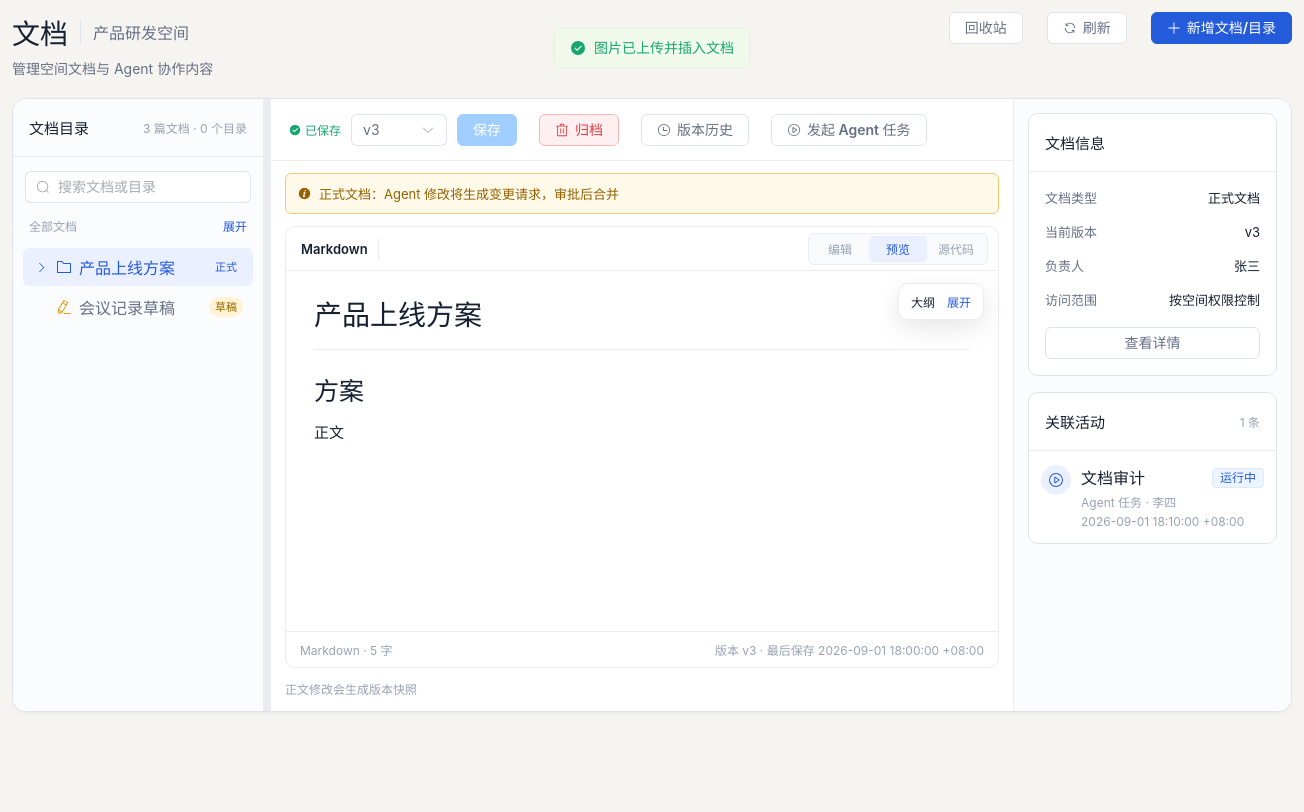
Test: DocumentEditorView › preserves an unsaved draft when switching documents
The image size is (1304, 812).
Click the tab with aria-label "源代码模式": (956, 248) [927,236,985,262]
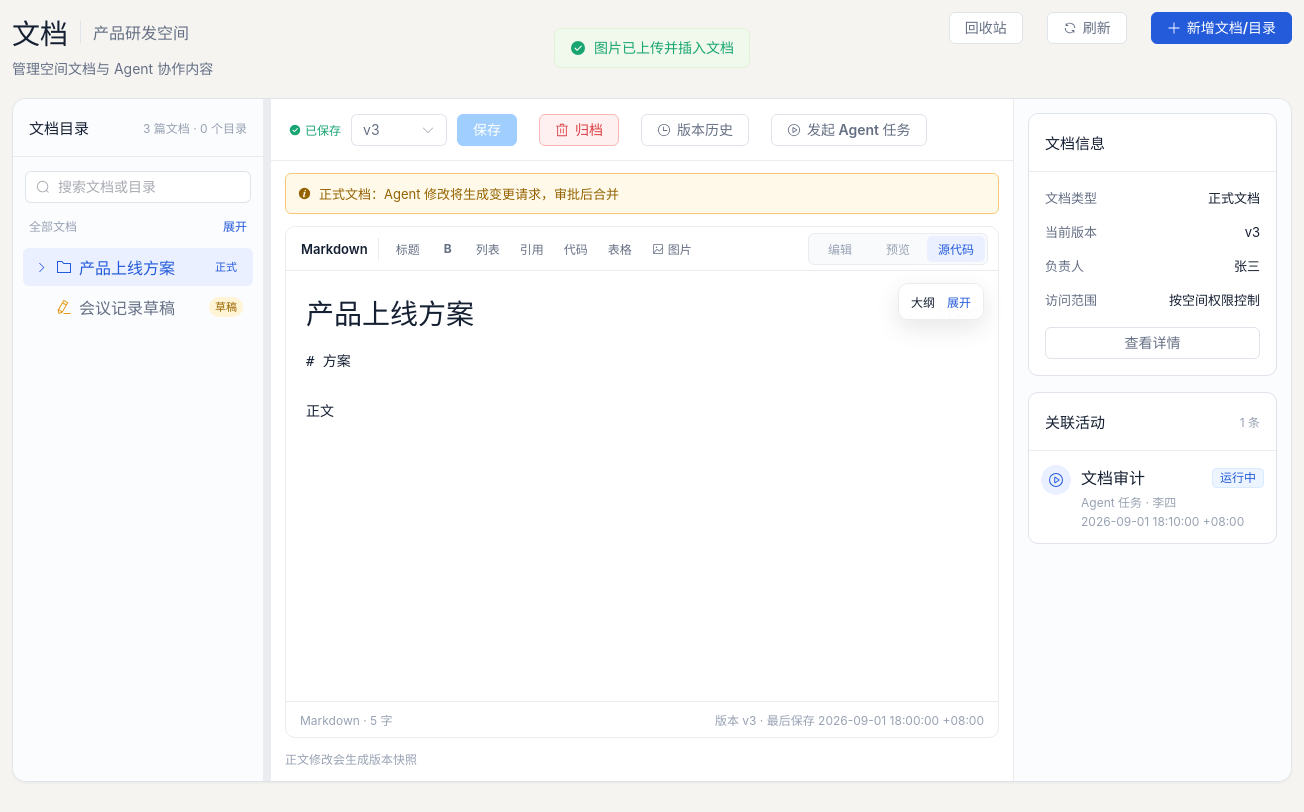
Replace the text in the text box named "Markdown 文档内容" with "# 临时编辑内容": (642, 521) [286,341,998,701]
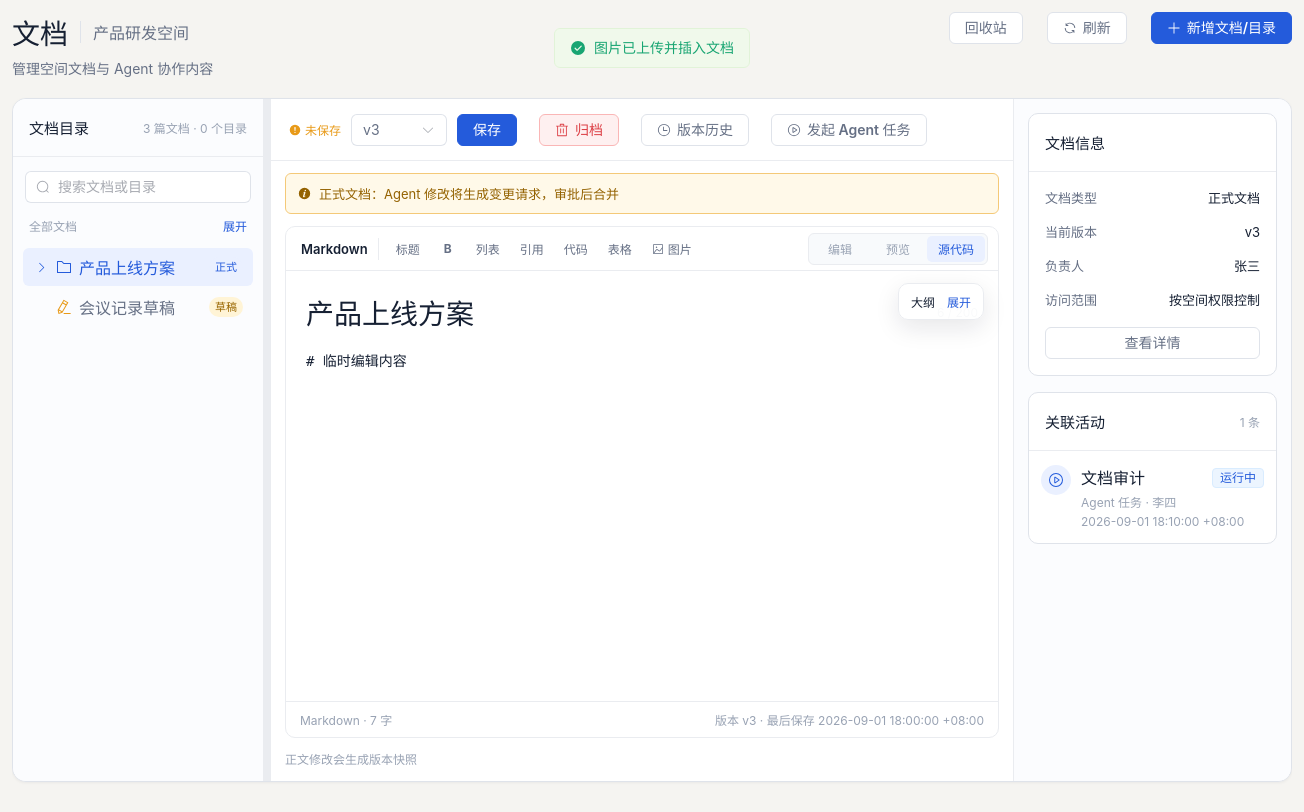
Click the button "会议记录草稿 草稿": (150, 308) [56,297,243,318]
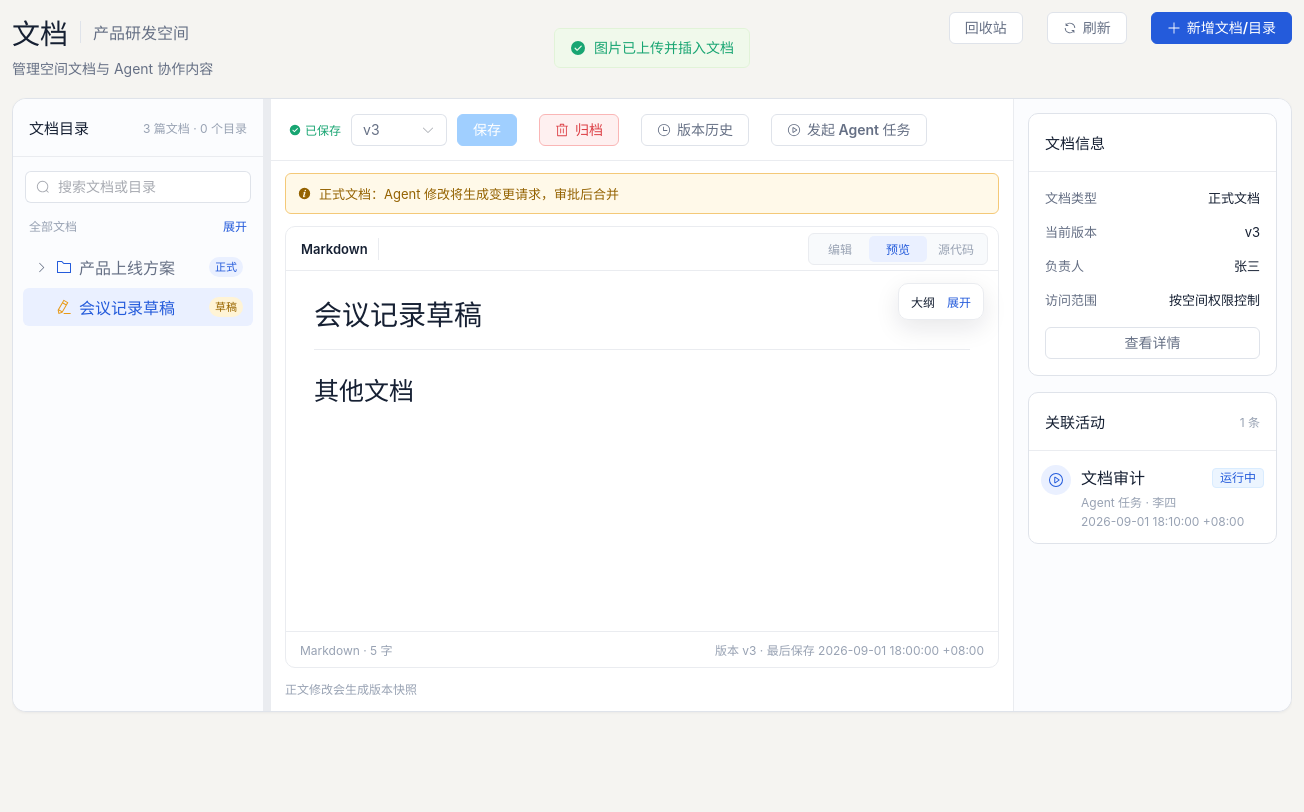
Expected: the text "会议记录草稿" is shown, [79,295,175,319]
Click the button "产品上线方案 正式": (139, 268) [34,257,243,278]
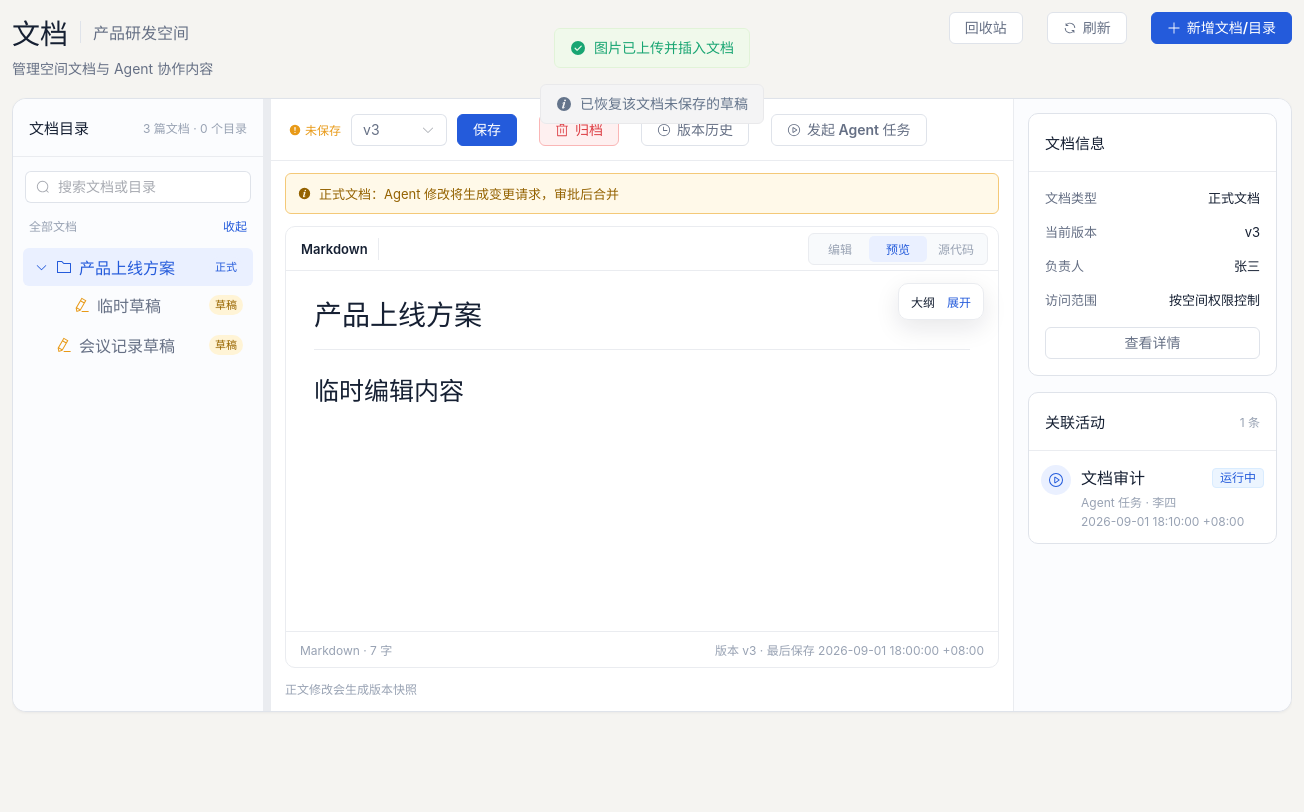
Click the tab with aria-label "源代码模式": (956, 248) [927,236,985,262]
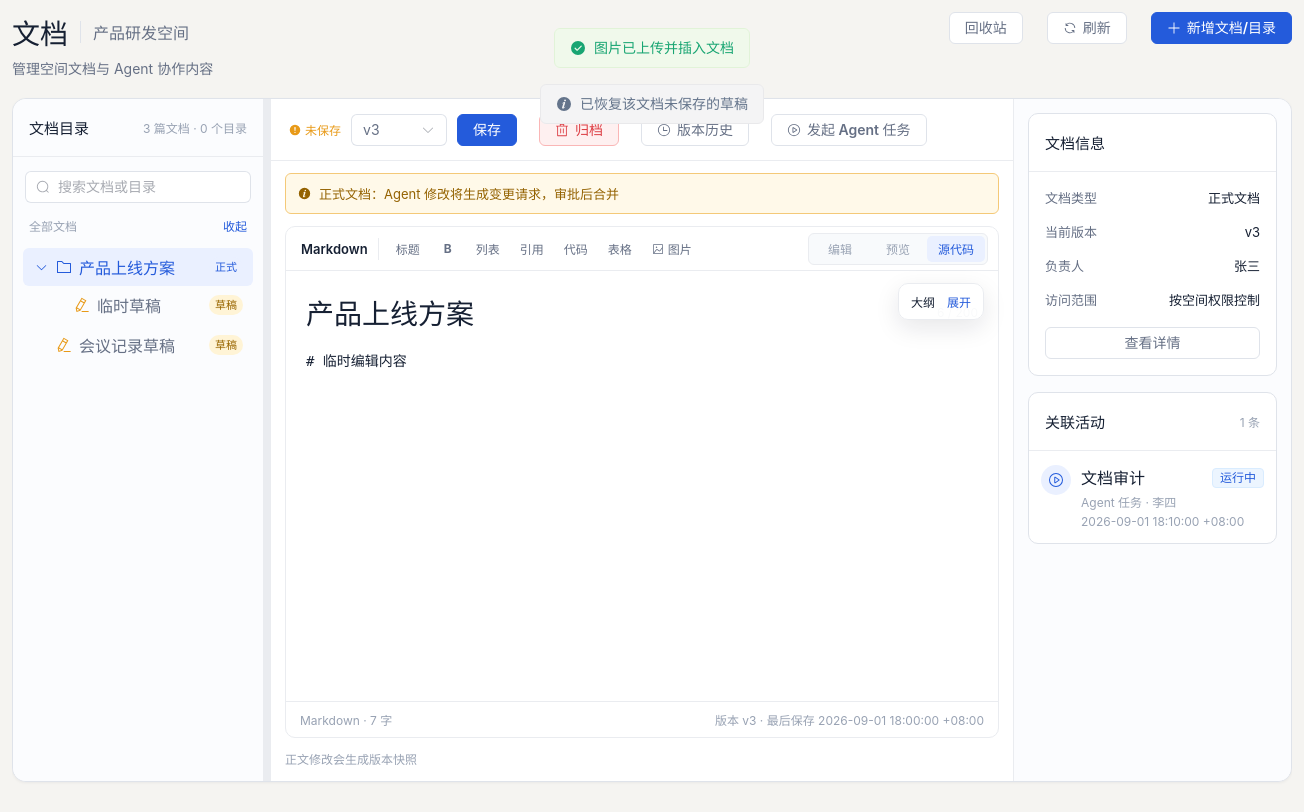
Expected: the text box named "Markdown 文档内容" holds "# 临时编辑内容", [286,341,998,701]
